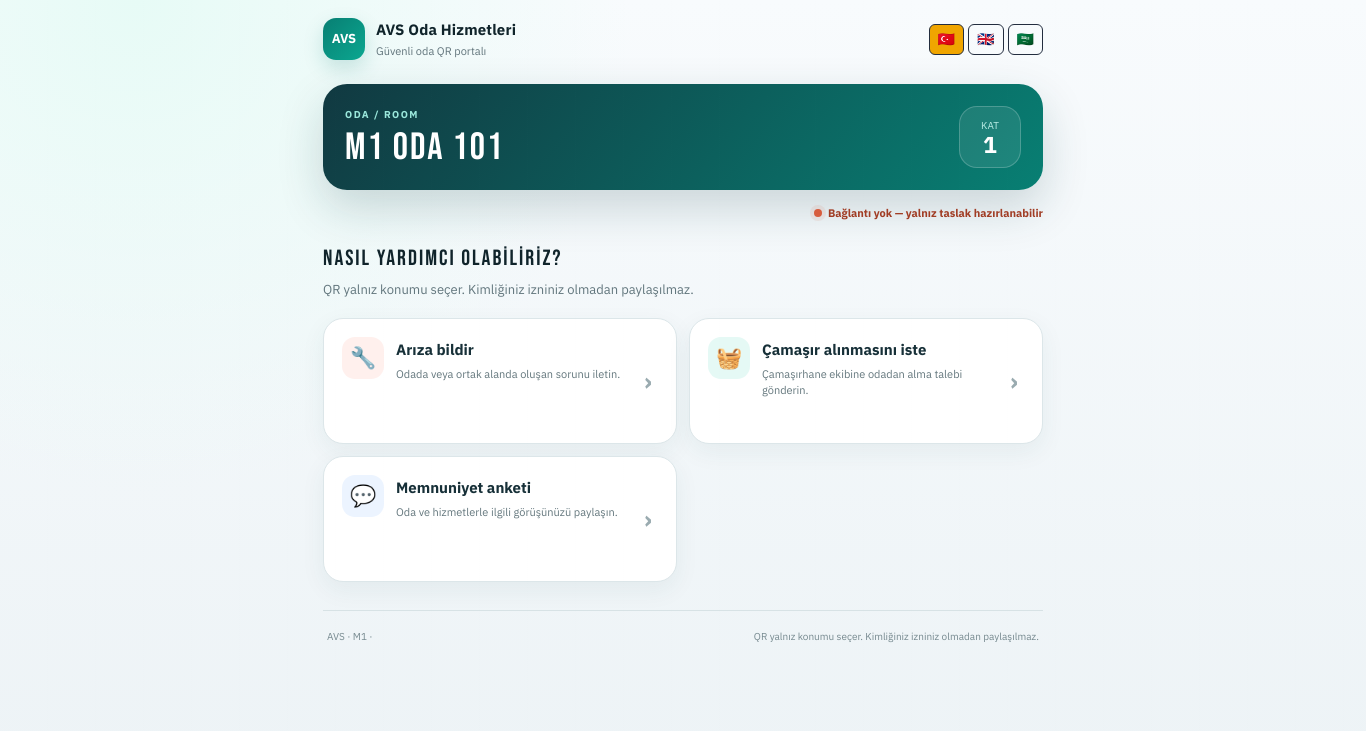
Test: RoomPortalPage › çevrimdışında anketi göndermeden yalnız cihaz taslağına kaydeder
Step 1. Click the button "Memnuniyet anketi" → (500, 518), box [323, 456, 677, 582]
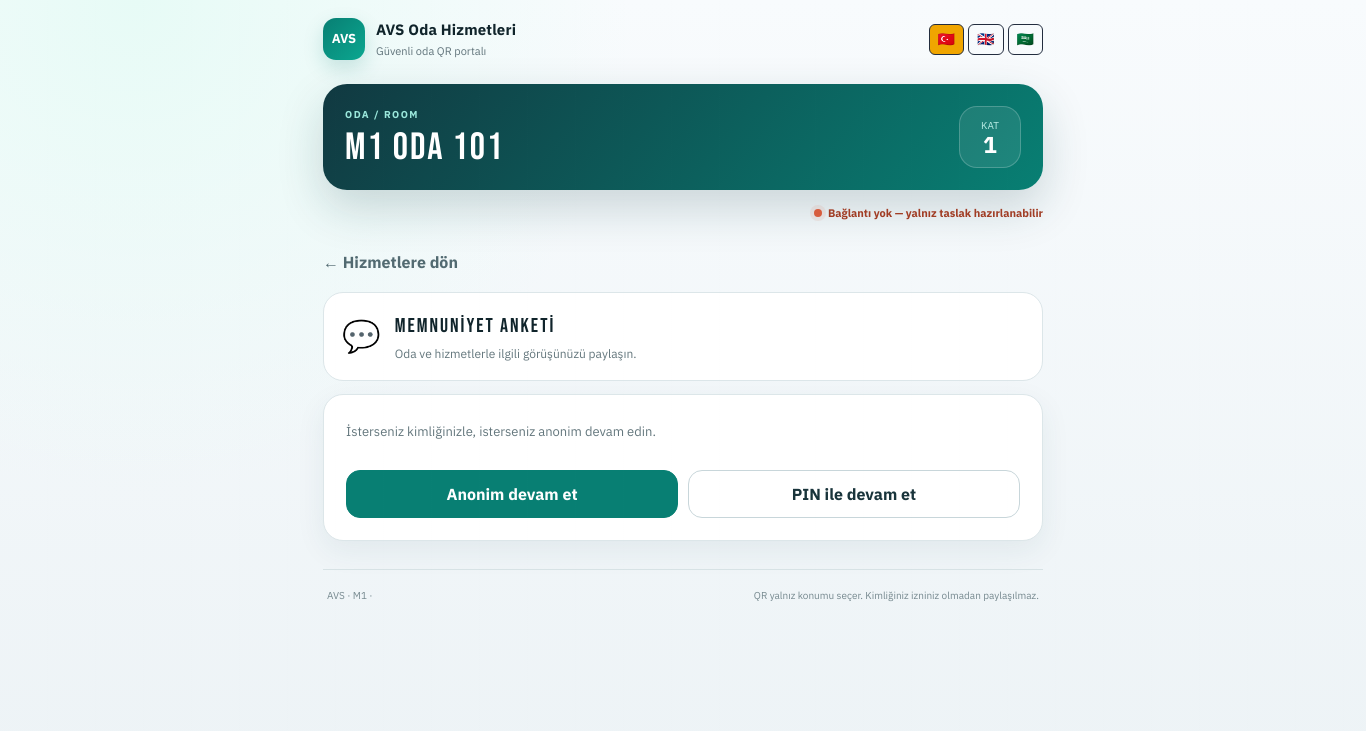
Step 2. Click the button "Anonim devam et" → (512, 494), box [346, 470, 678, 518]
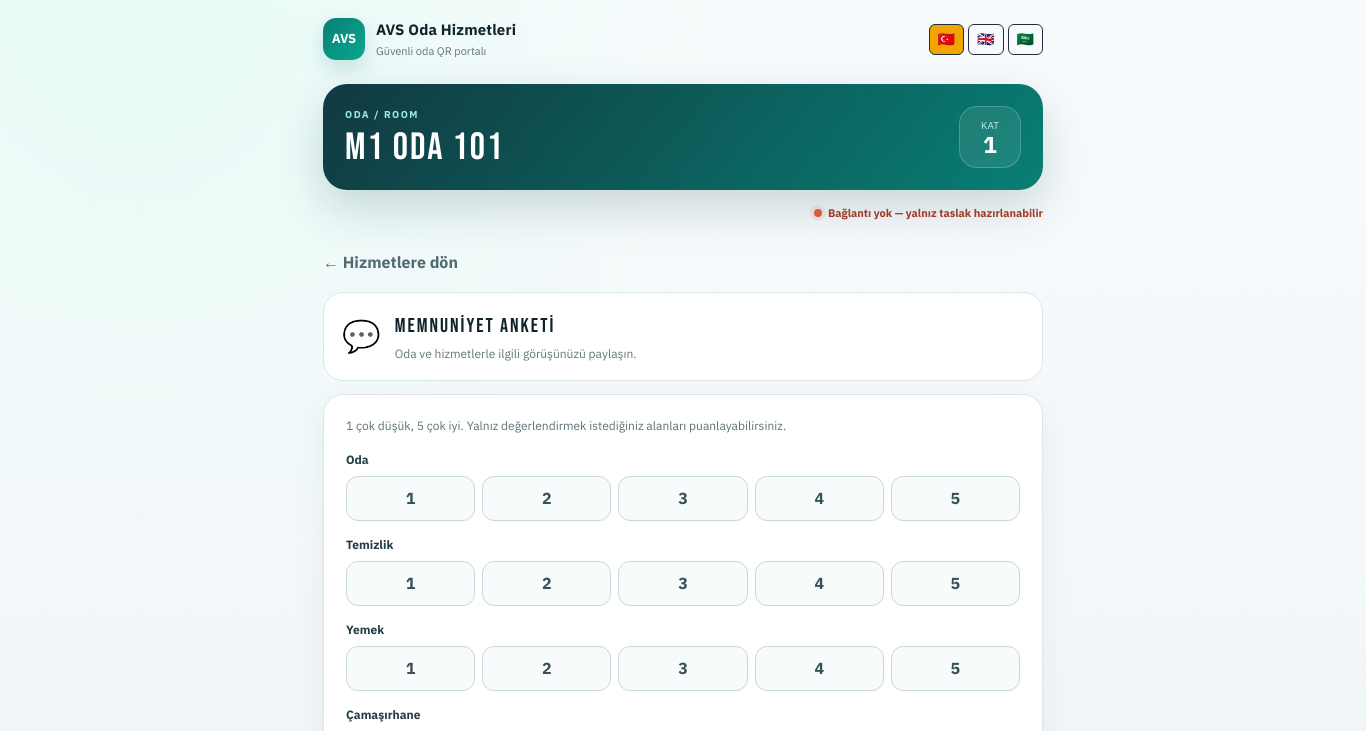
Step 3. Click the button named "Oda: 4 puan" → (819, 498), box [755, 476, 884, 521]
(page scrolled)
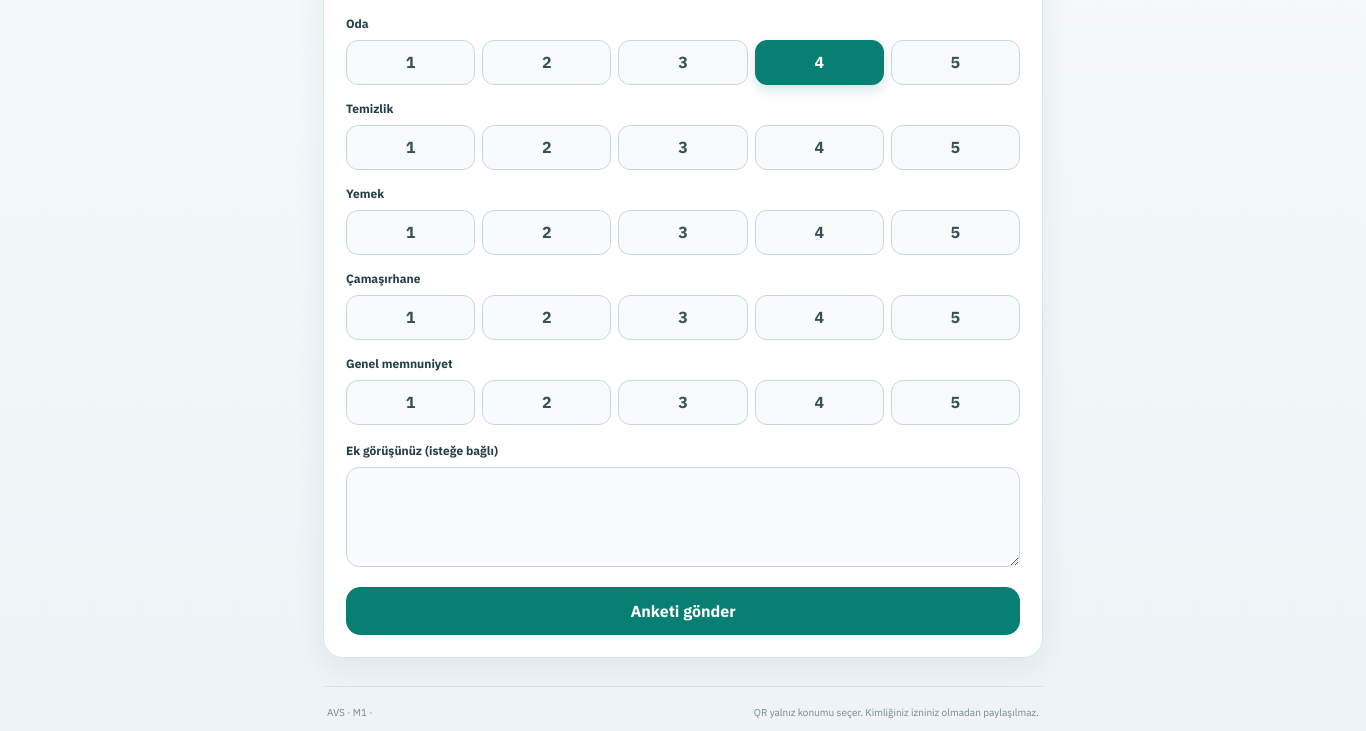
Step 4. Click the button "Anketi gönder" → (683, 611), box [346, 587, 1020, 635]
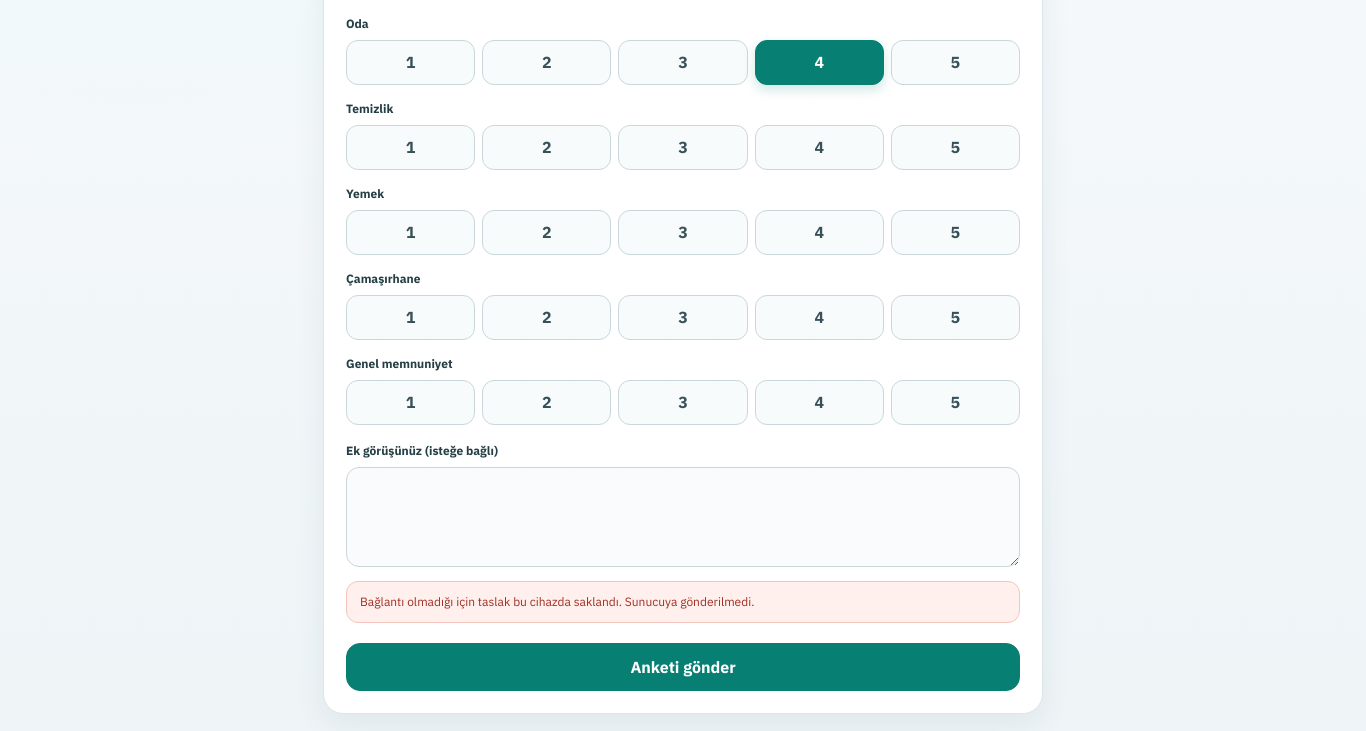
expect the message shows "Sunucuya gönderilmedi": met, box [360, 594, 754, 609]
